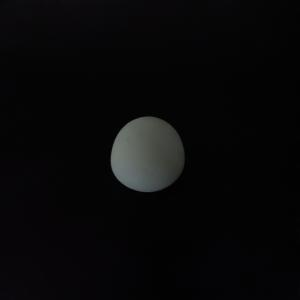Egg: (105, 108, 199, 195)
